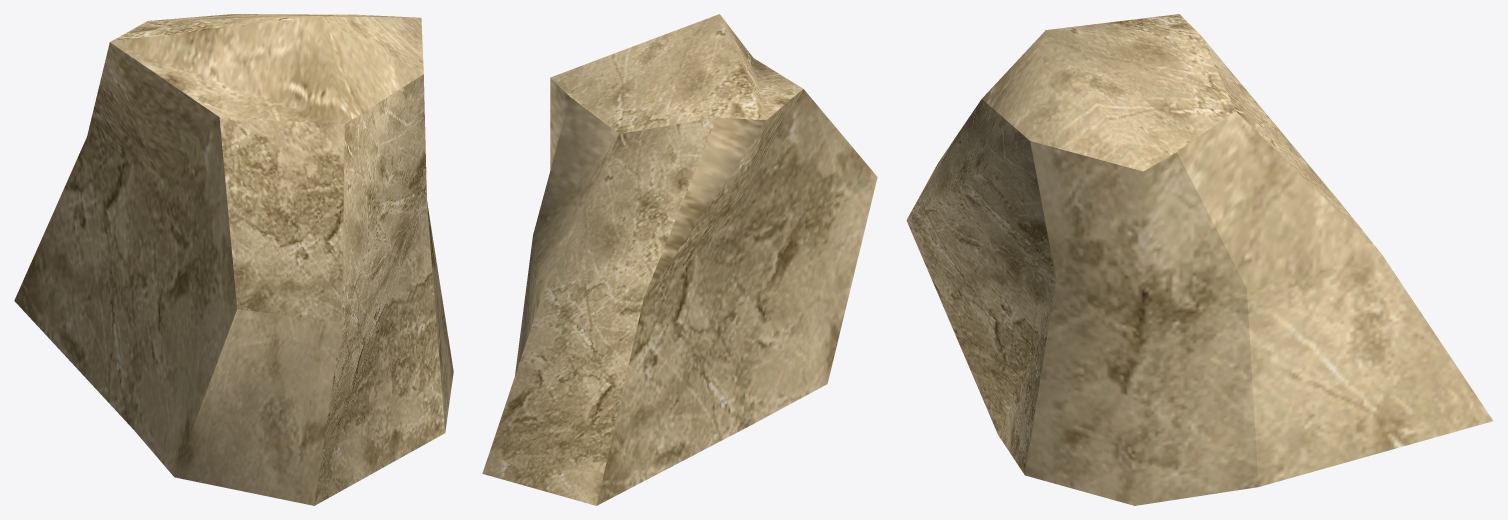
File: geo_desert_01.dae
The picture shows the model from 3 angles, left to right: view 1: azimuth 30°, elevation 25°; view 2: azimuth 150°, elevation 25°; view 3: azimuth 270°, elevation 25°; orthographic projection. The views are drawn at different scales.
Parts seen in each view (by area): view 1: Box06; view 2: Box06; view 3: Box06.
Boxes of the visible parts, left/top/right/bottom form: Box06: left=14, top=14, right=453, bottom=505; Box06: left=482, top=14, right=877, bottom=505; Box06: left=906, top=14, right=1492, bottom=505.
Bounding box in the file's own units: 6.5 × 11.25 × 8.83.
